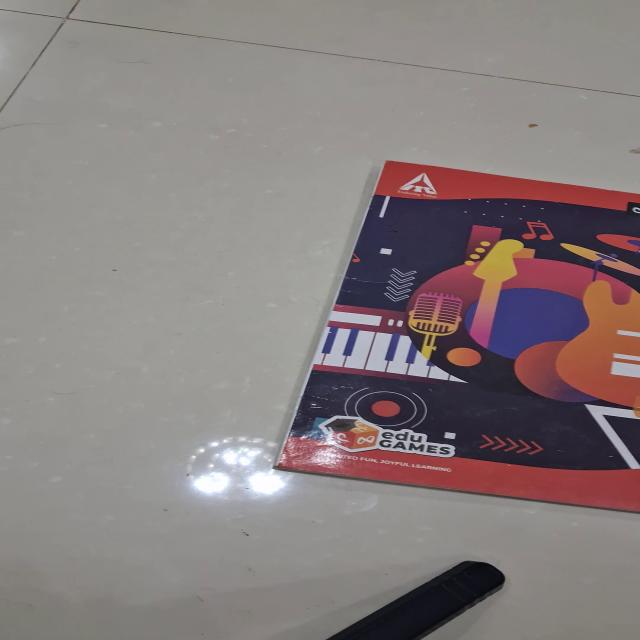paper: (271, 159, 639, 513)
